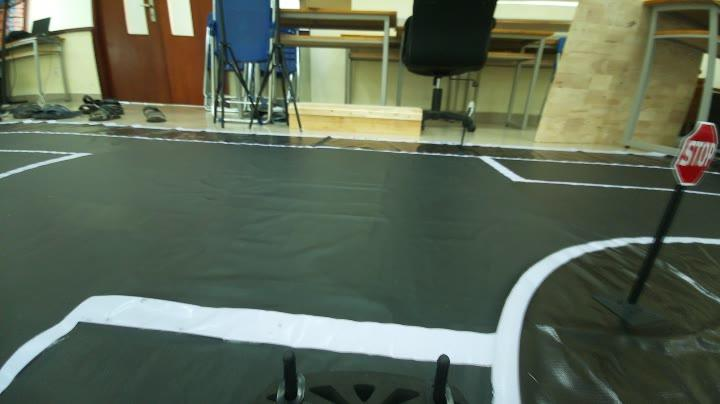stop: (674, 118, 720, 188)
